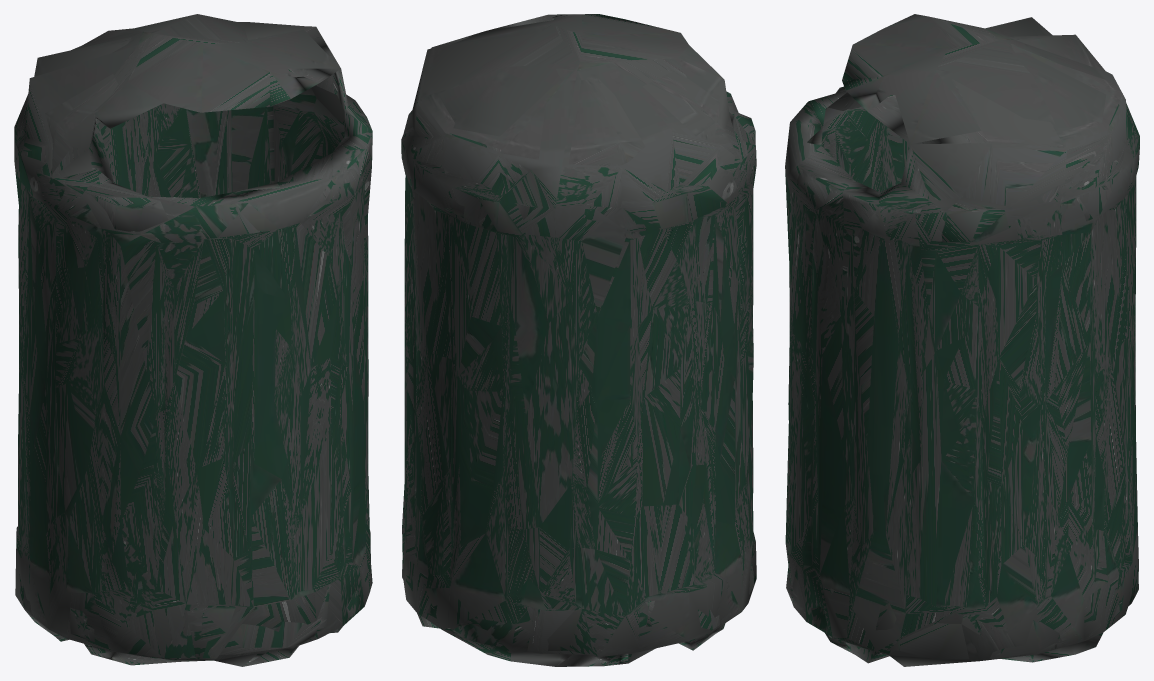
File: trash-bin.glb
3 views of the same model, side by side, from view 1: azimuth 30°, elevation 25°; view 2: azimuth 150°, elevation 25°; view 3: azimuth 270°, elevation 25° (orthographic).
Bounding box in the file's own units: 1.09 × 1.9 × 1.09.
Materials: 1 (1 with a texture image).
